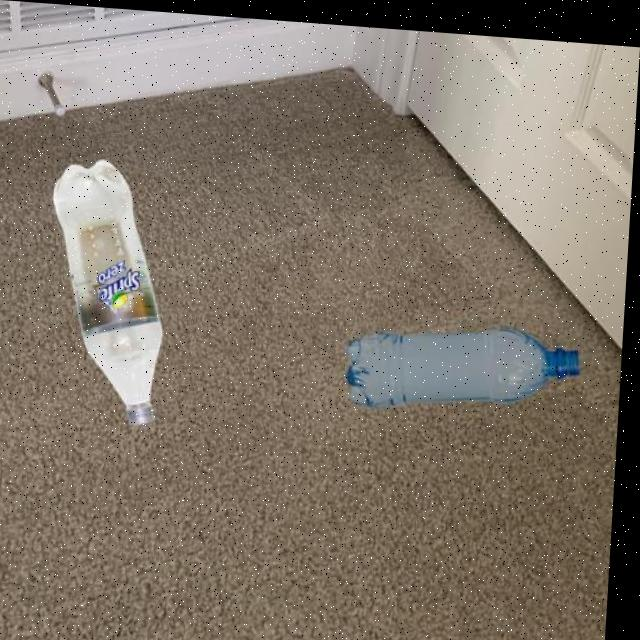bottle: (42, 152, 176, 424), (345, 306, 585, 414)
